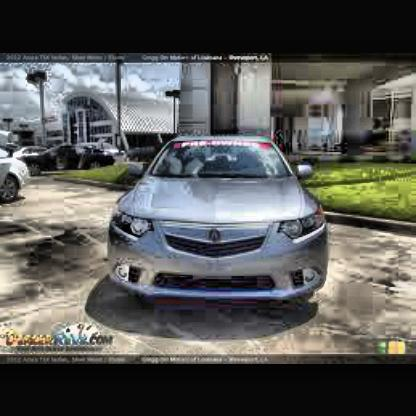Acura TSX Sedan 2012: (112, 133, 328, 303)
